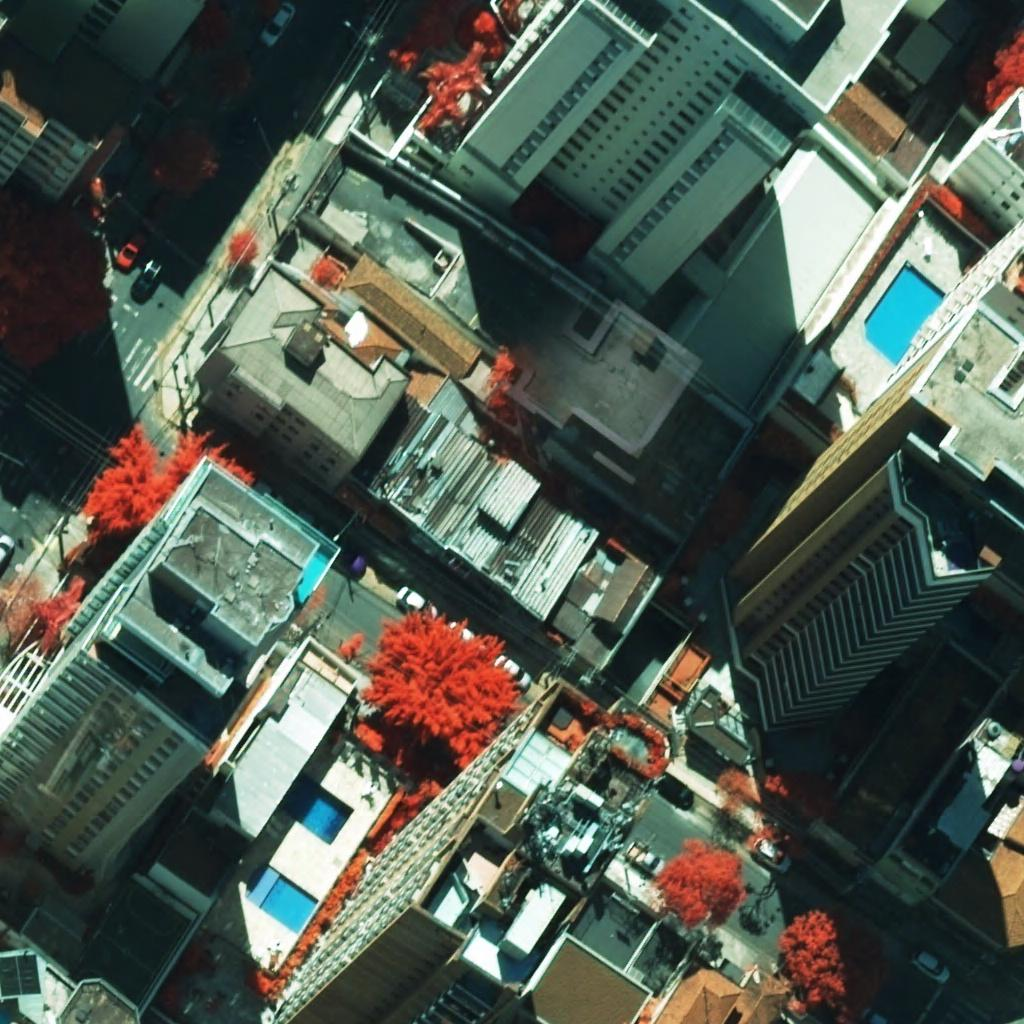pool: (864, 260, 946, 366), (247, 865, 318, 933), (284, 777, 355, 845), (292, 545, 336, 603)
